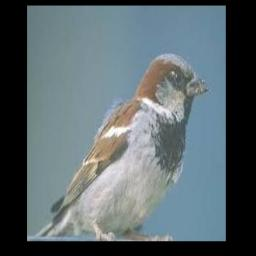Sparrow: (34, 52, 211, 240)
